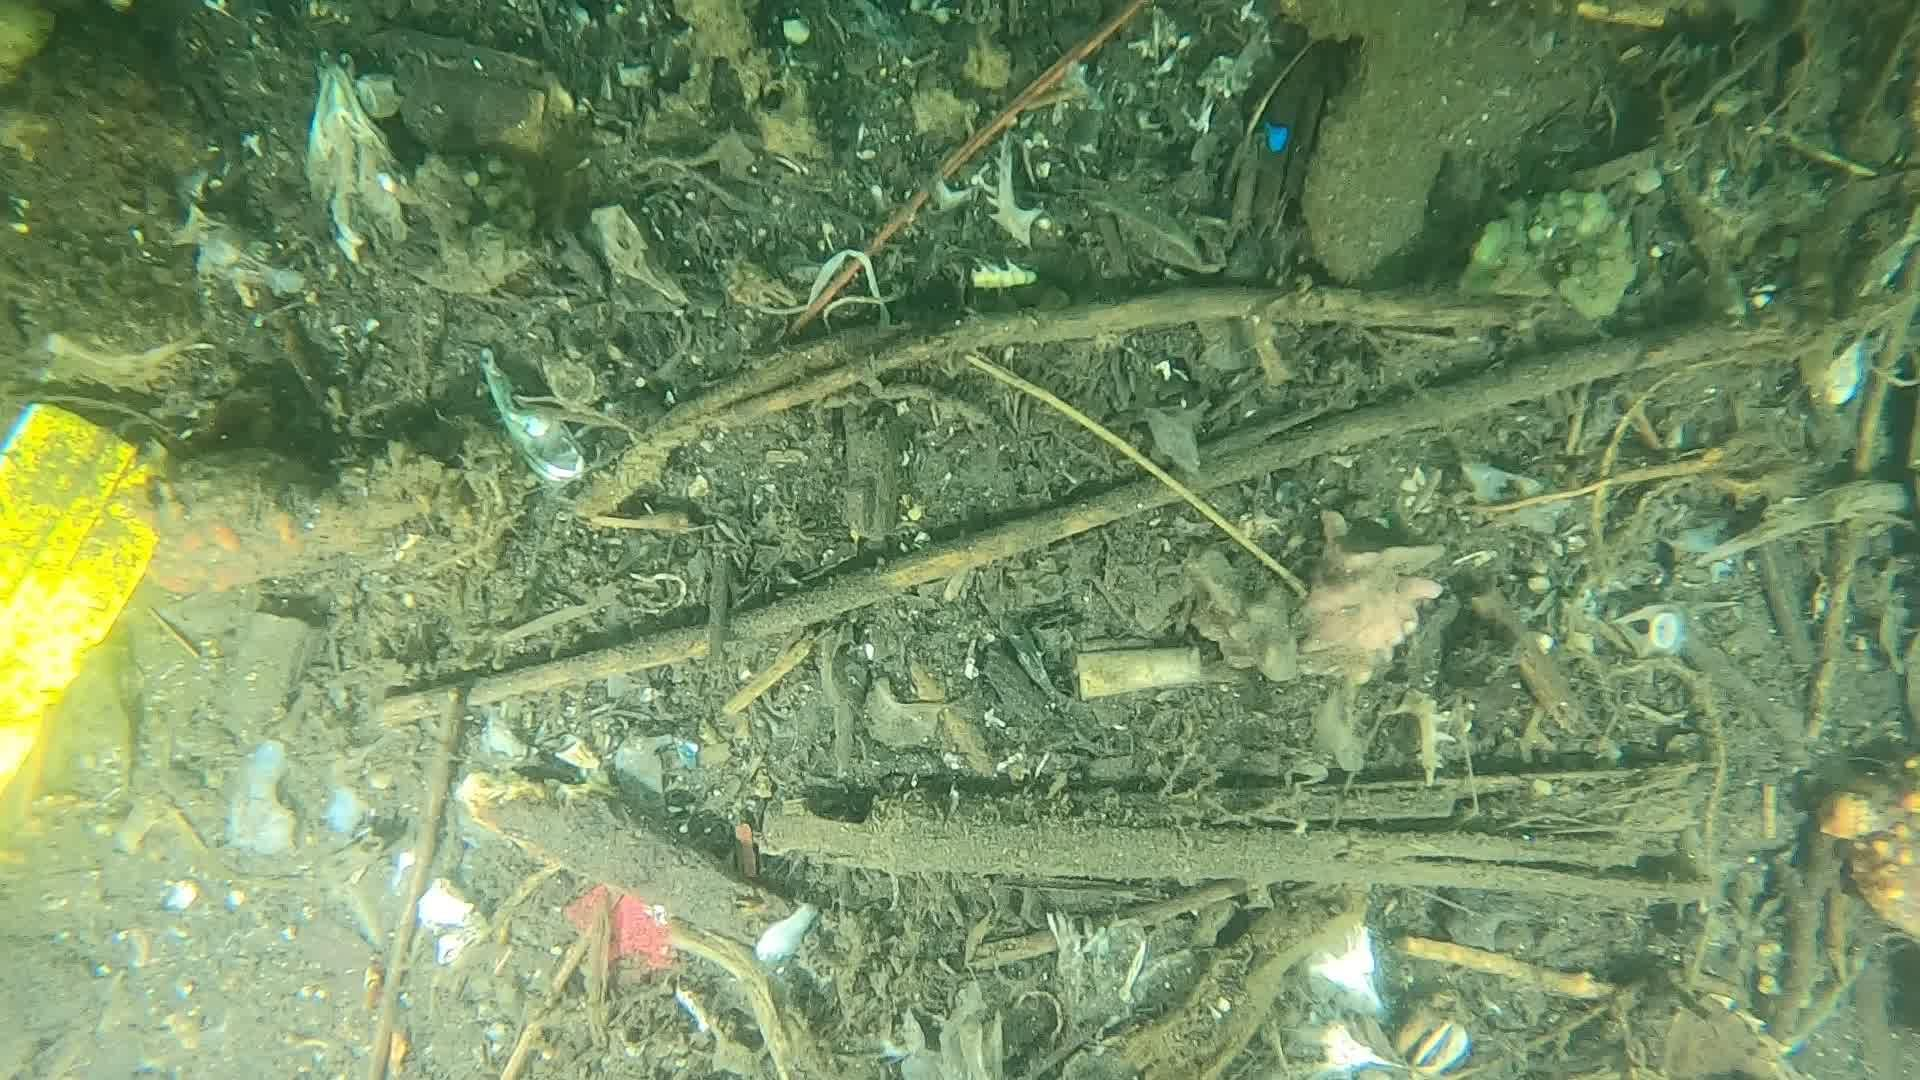wood: (368, 284, 1791, 727), (452, 767, 1716, 972)
